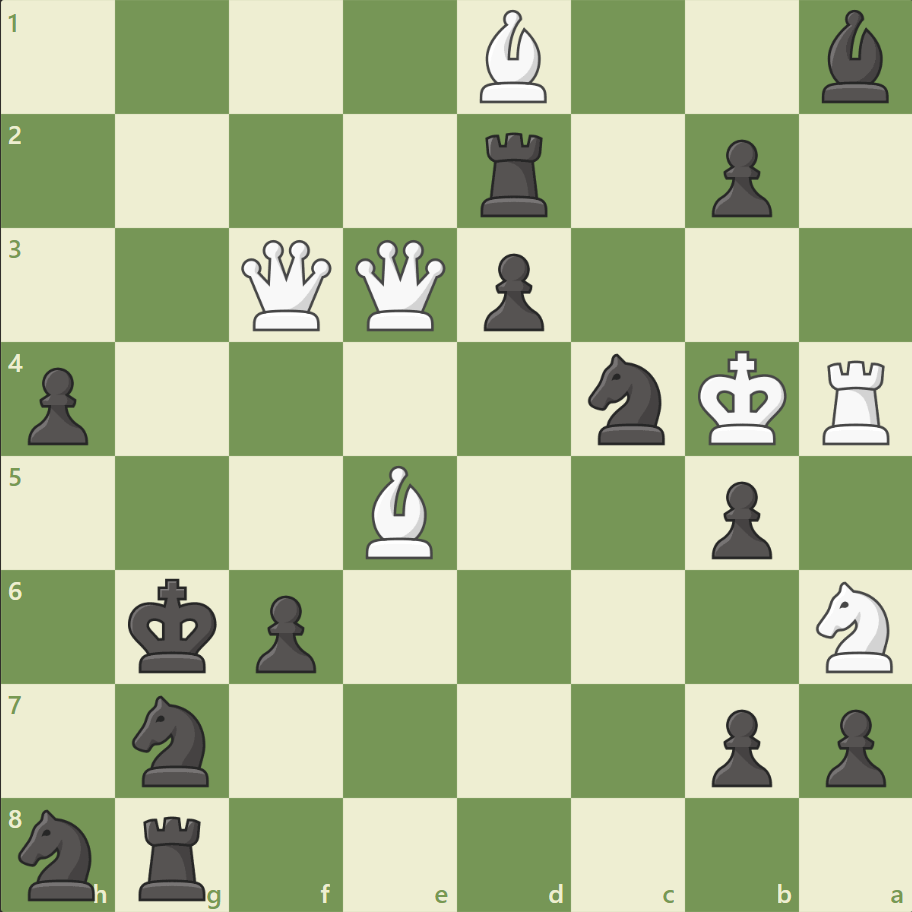B: (358, 460, 442, 563), (471, 6, 555, 109)
K: (692, 344, 792, 452)
N: (806, 575, 903, 677)
Q: (351, 236, 450, 335), (237, 236, 336, 335)
R: (814, 352, 897, 449)
b: (812, 6, 896, 109)
k: (124, 571, 224, 679)
n: (124, 688, 222, 791), (11, 802, 108, 904), (579, 348, 676, 450)
p: (701, 700, 776, 791), (247, 586, 322, 677), (701, 473, 776, 564), (20, 359, 95, 450), (474, 246, 549, 337), (701, 132, 776, 223), (815, 700, 889, 791)
r: (473, 125, 556, 222), (133, 806, 215, 904)
